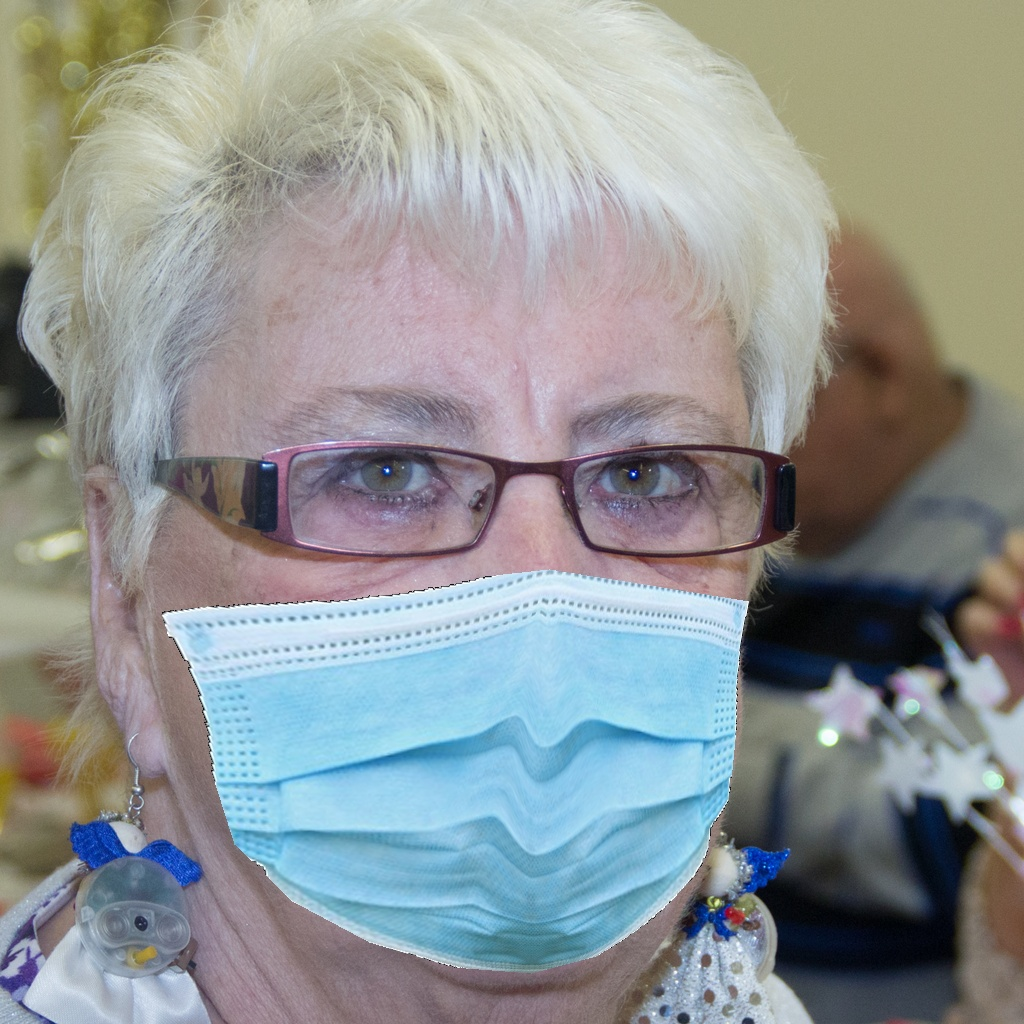Mask: (161, 367, 783, 974)
